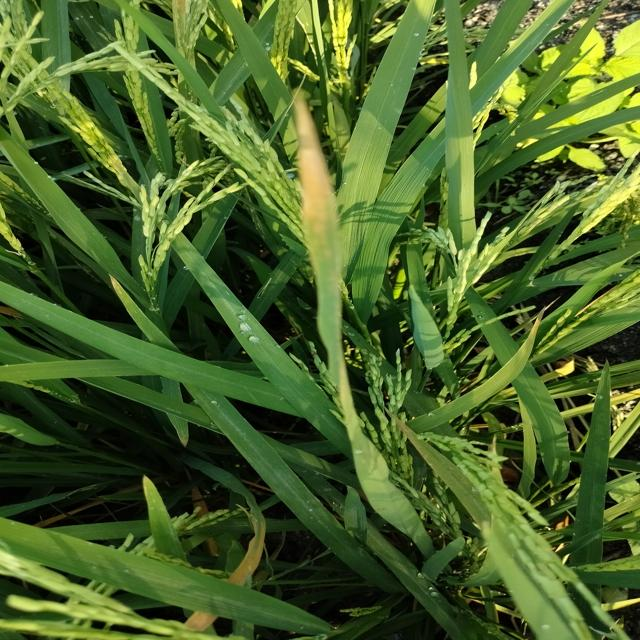Brown spot: (170, 525, 279, 640)
healthy: (286, 87, 337, 237)
